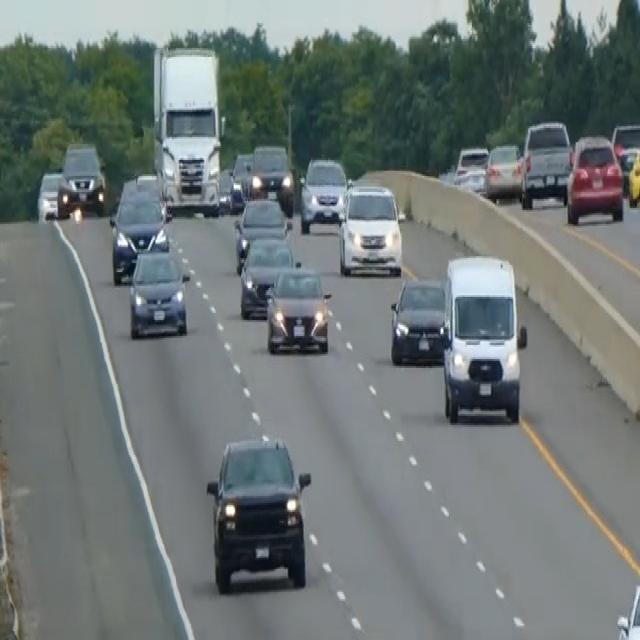car: (338, 180, 403, 278), (265, 261, 330, 354), (109, 181, 169, 281), (127, 247, 190, 338), (565, 132, 624, 224), (389, 274, 447, 364), (519, 117, 572, 208), (239, 233, 295, 318), (233, 194, 289, 272), (57, 139, 106, 217), (299, 155, 347, 233), (247, 142, 294, 215), (484, 140, 522, 201), (611, 121, 639, 192), (453, 144, 489, 194), (36, 167, 68, 222), (228, 149, 253, 210), (615, 580, 639, 638), (627, 144, 639, 208), (217, 165, 233, 210)
jeep: (204, 430, 312, 594)
lorry: (151, 43, 225, 217)
minibus: (438, 249, 528, 427)
